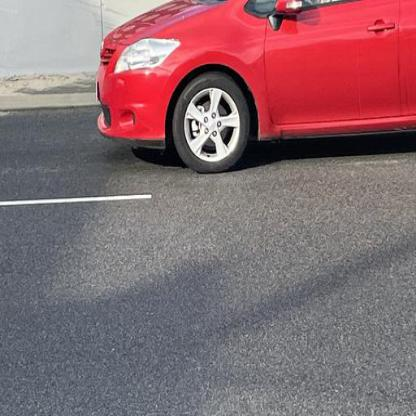Tire: (173, 72, 250, 174)
